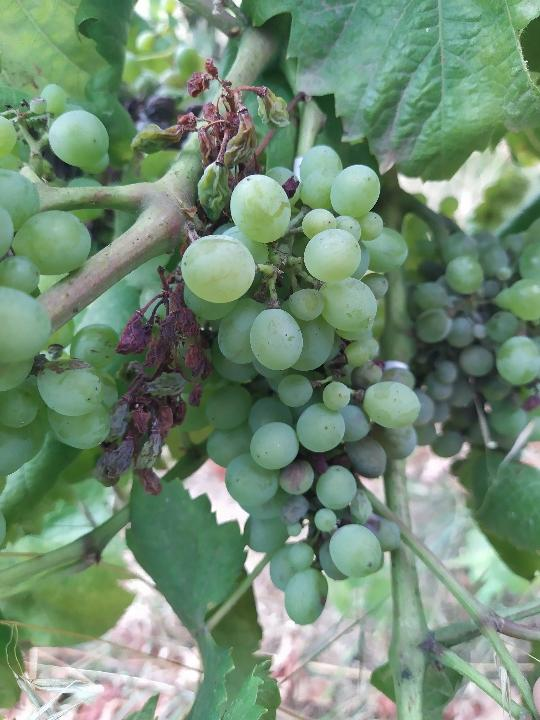grape: (99, 138, 423, 629)
